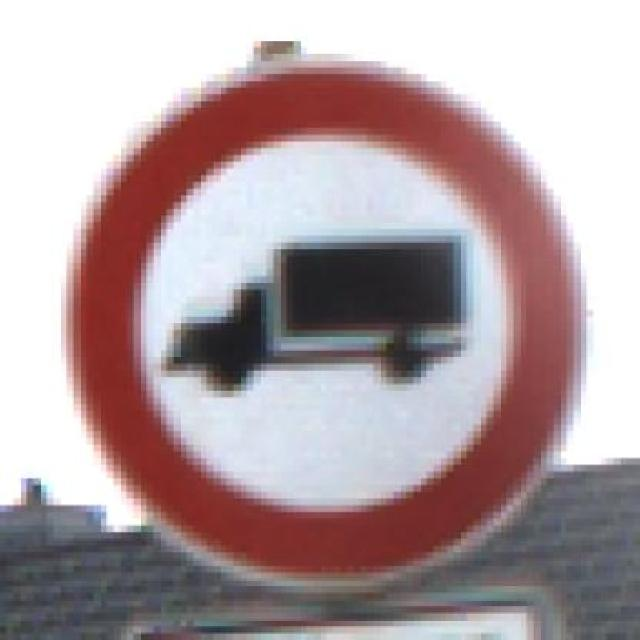Truck traffic is prohibited: (67, 40, 607, 600)
